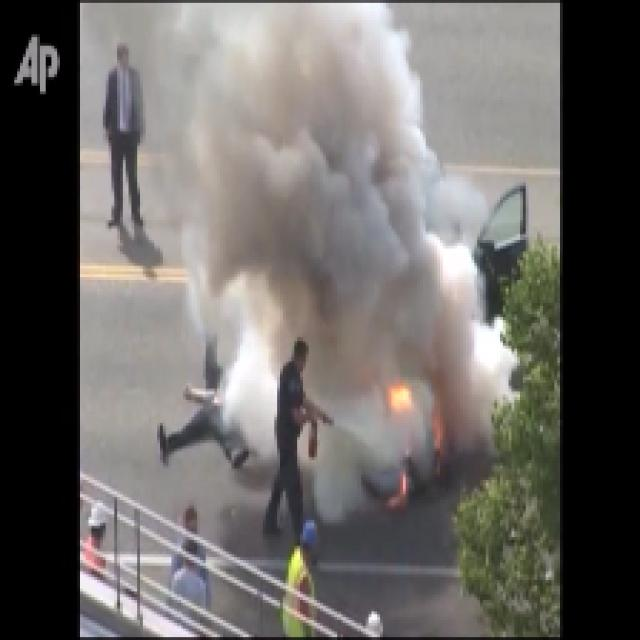smoke: (181, 4, 457, 513)
